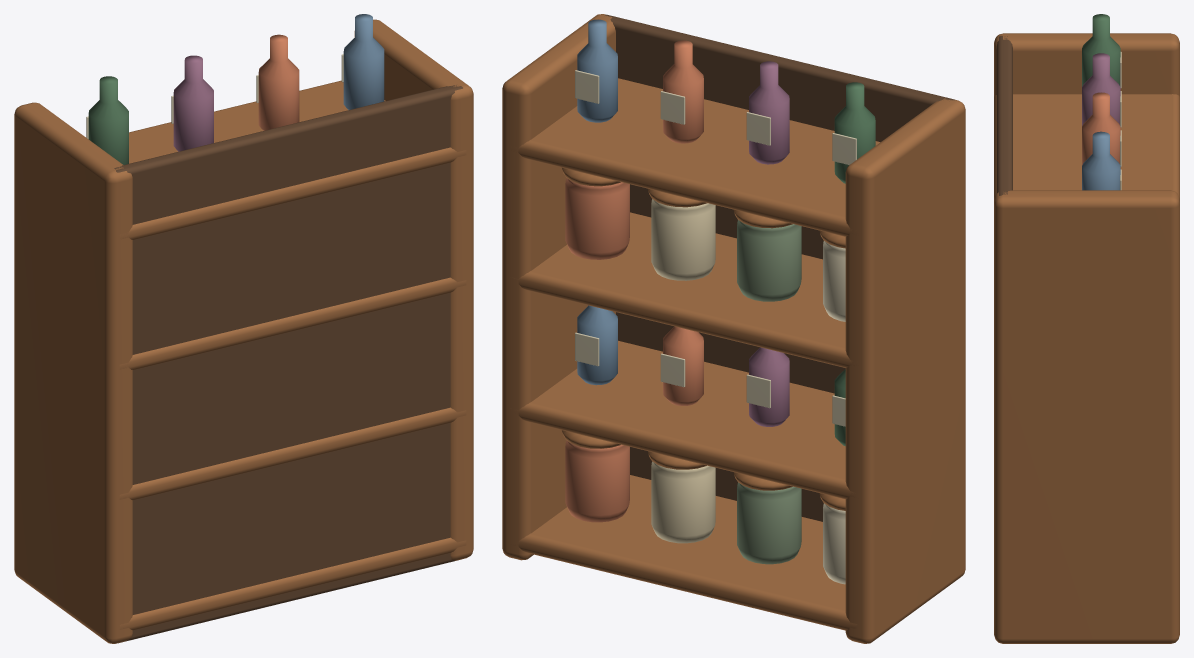
File: pantry_shelf.glb
3 views of the same model, side by side, from view 1: azimuth 30°, elevation 25°; view 2: azimuth 150°, elevation 25°; view 3: azimuth 270°, elevation 25° (orthographic). The views are drawn at different scales.
Visible parts, largest first — view 1: House07_pantry_shelf; view 2: House07_pantry_shelf; view 3: House07_pantry_shelf.
Part boxes in pixels (left/top/right/bottom): House07_pantry_shelf: left=14, top=14, right=473, bottom=643; House07_pantry_shelf: left=502, top=14, right=965, bottom=643; House07_pantry_shelf: left=994, top=14, right=1179, bottom=643.
Size of the model in its own units: 1.12 by 1.5 by 0.52.
